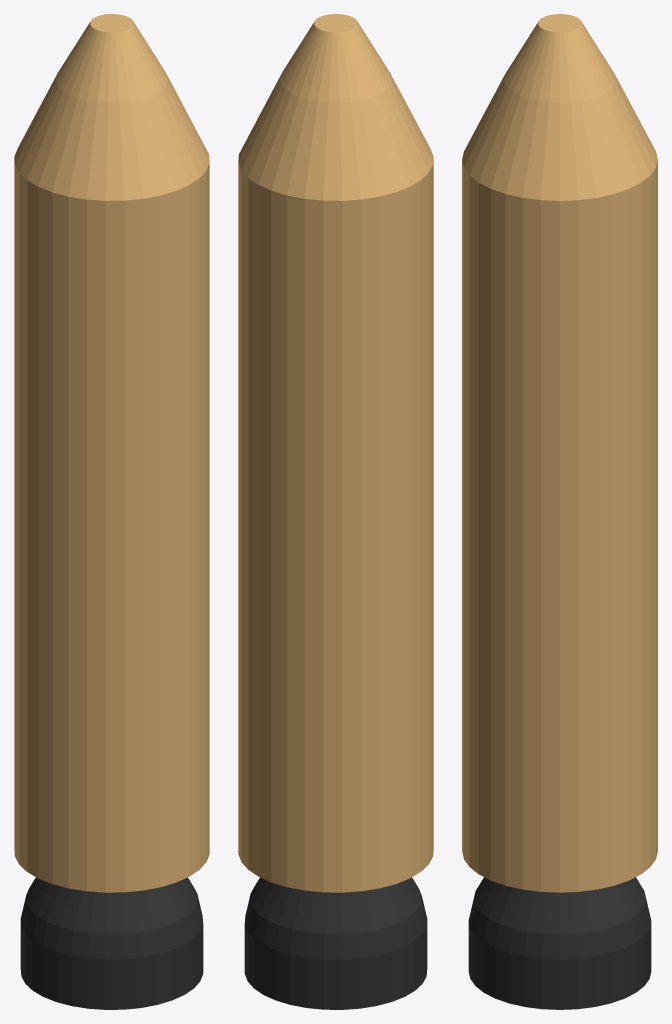
Rendered from rocket_mini.glb.
3 views of the same model, side by side, from view 1: azimuth 30°, elevation 25°; view 2: azimuth 150°, elevation 25°; view 3: azimuth 270°, elevation 25° (orthographic).
Parts seen in each view (by area): view 1: Cylinder; view 2: Cylinder; view 3: Cylinder.
Part boxes in pixels (x1=…): Cylinder: x1=14, y1=14, x2=209, y2=1009; Cylinder: x1=238, y1=14, x2=433, y2=1009; Cylinder: x1=462, y1=14, x2=657, y2=1009.
Size of the model in its own units: 0.1375 by 0.7346 by 0.1375.
